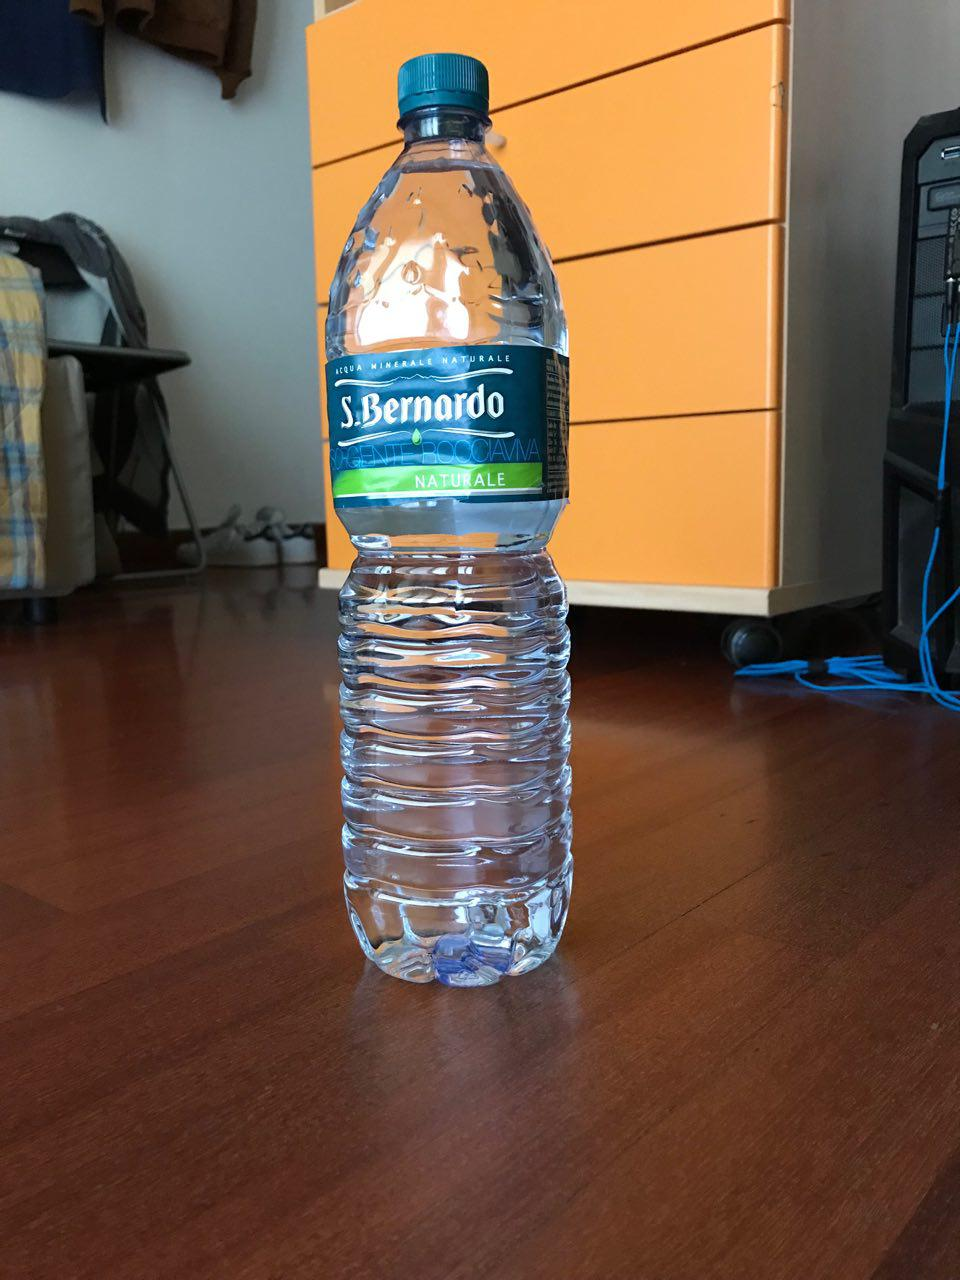san_bernardo: (321, 49, 577, 990)
